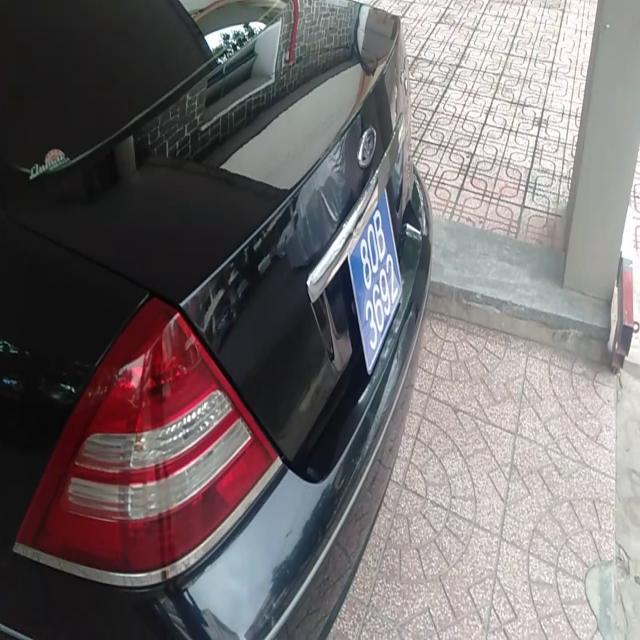bien_xanh: (350, 186, 406, 381)
